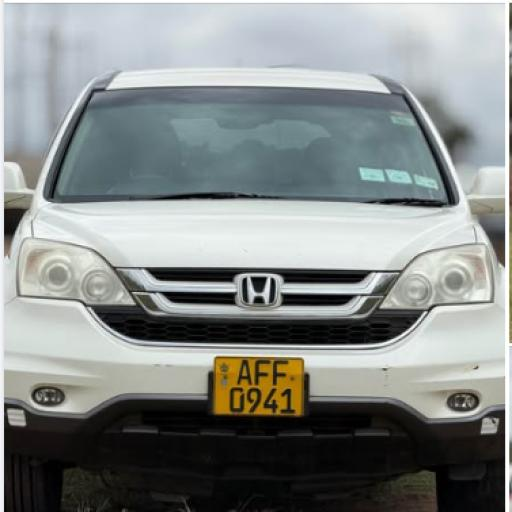number-plates: (214, 352, 302, 421)
